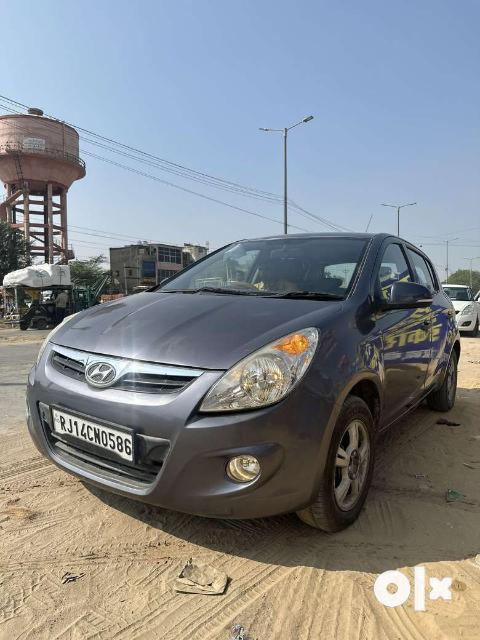Indian_Number_Plate: (52, 408, 138, 466)
